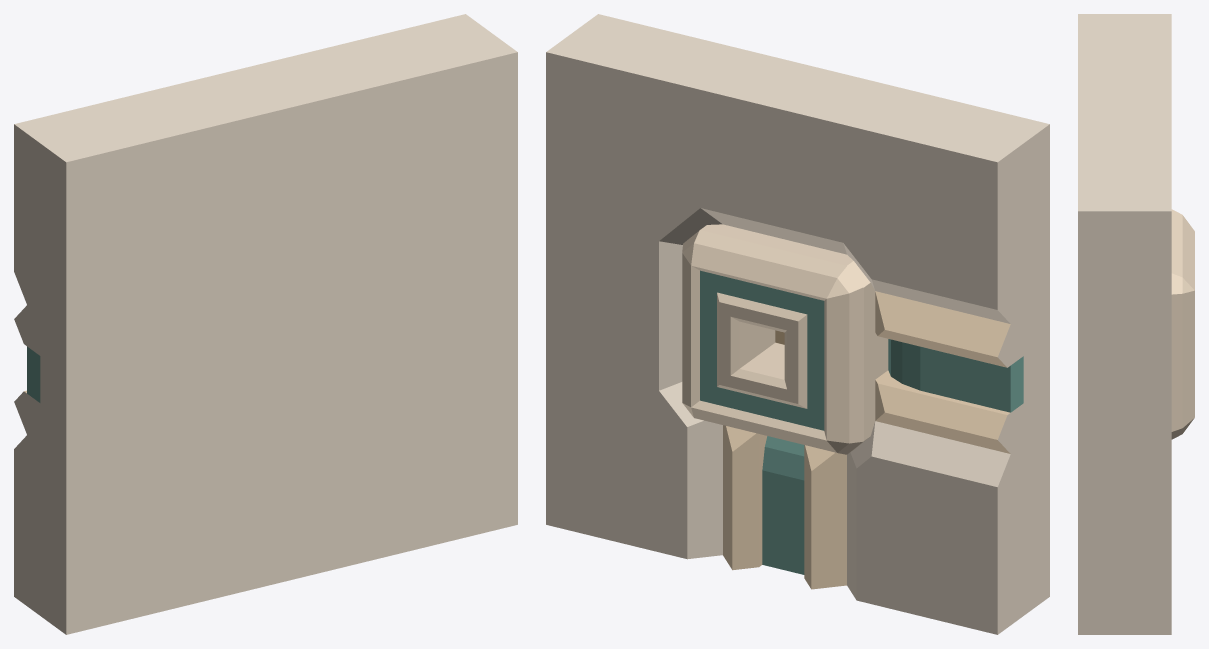
File: Puzzle_Wall_Conduit_Keyhole_Corner.glb
The picture shows the model from 3 angles, left to right: view 1: azimuth 30°, elevation 25°; view 2: azimuth 150°, elevation 25°; view 3: azimuth 270°, elevation 25°; orthographic projection. The views are drawn at different scales.
Visible parts, largest first — view 1: Puzzle_Wall_Conduit_Keyhole_Corner; view 2: Puzzle_Wall_Conduit_Keyhole_Corner; view 3: Puzzle_Wall_Conduit_Keyhole_Corner.
Part boxes in pixels (box(x1,y1,x2,y2)): Puzzle_Wall_Conduit_Keyhole_Corner: box(14, 14, 517, 634); Puzzle_Wall_Conduit_Keyhole_Corner: box(546, 14, 1049, 634); Puzzle_Wall_Conduit_Keyhole_Corner: box(1078, 14, 1194, 634).
Size of the model in its own units: 1 by 1 by 0.25.
